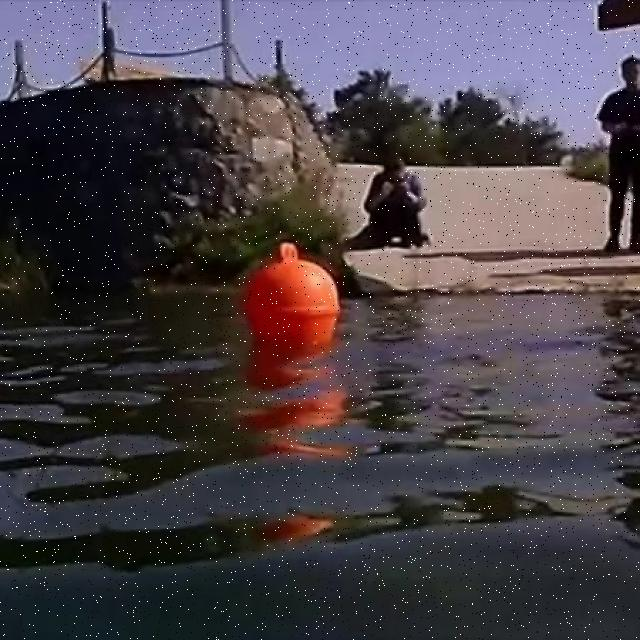buoy: (245, 239, 342, 350)
